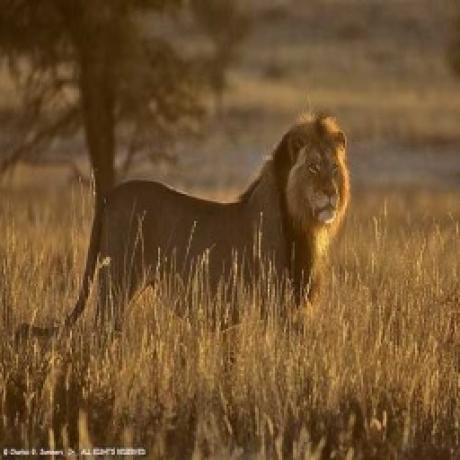Lion: (9, 110, 354, 369)
